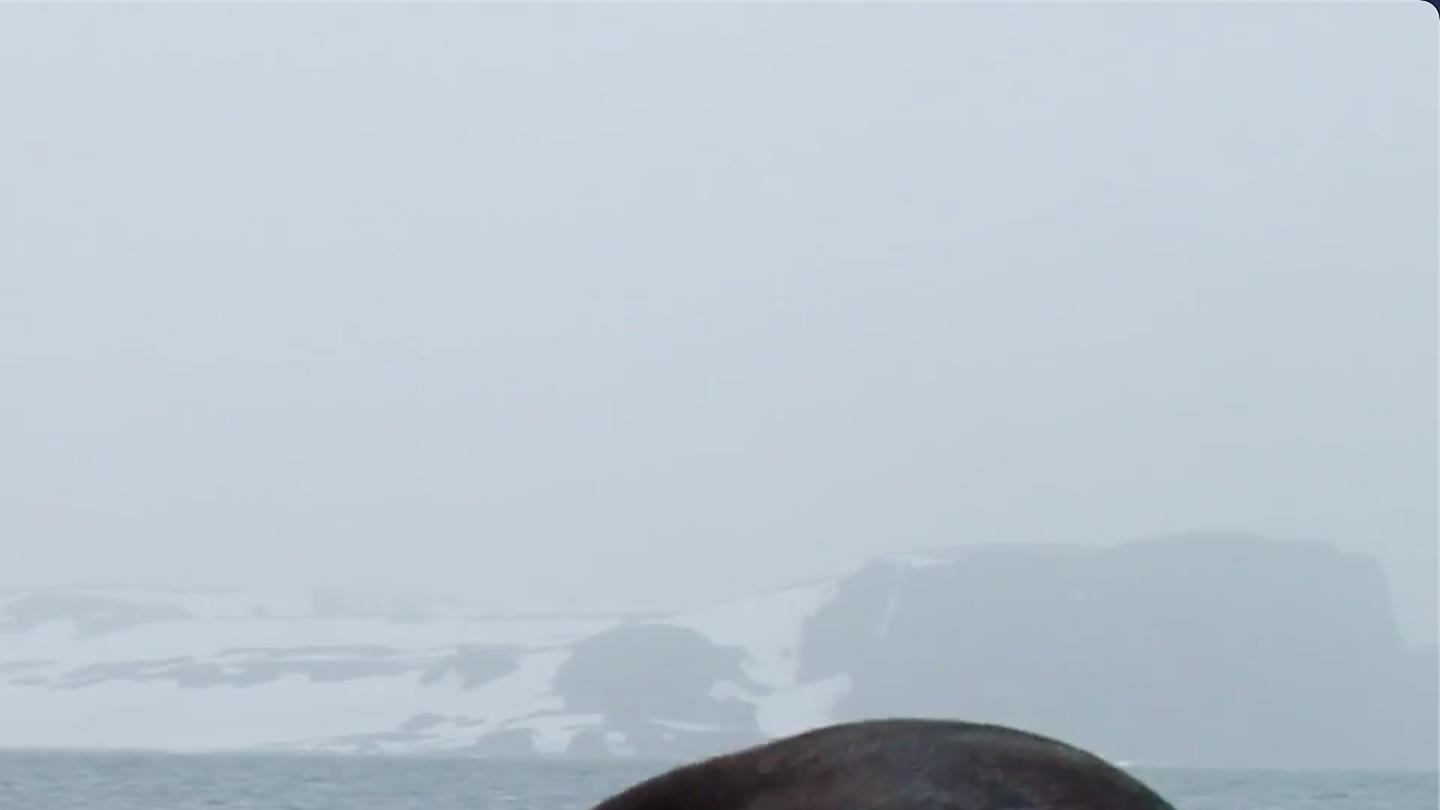Chinstrap Penguin: (0, 770, 21, 810)
